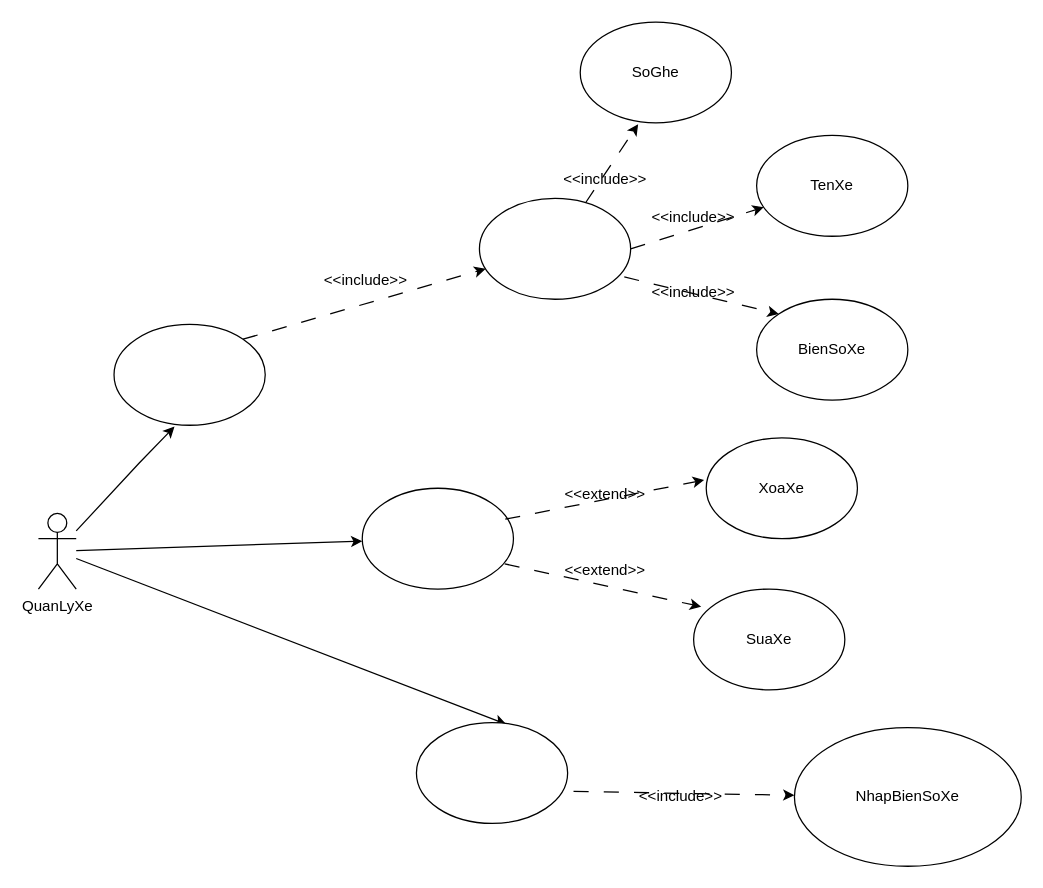
The diagram is 1043 pixels wide and 888 high, and some of its shapes have lost their labels. The shapes that lost their labels are listed below. From the top down, each one's box as (x1, y1, x2, y2) in pixels, then its label:
(478, 197, 631, 299): NhapThongTin
(113, 323, 265, 425): ThemXe
(361, 487, 513, 589): ChonChuyenXe
(415, 721, 568, 823): TimXe
